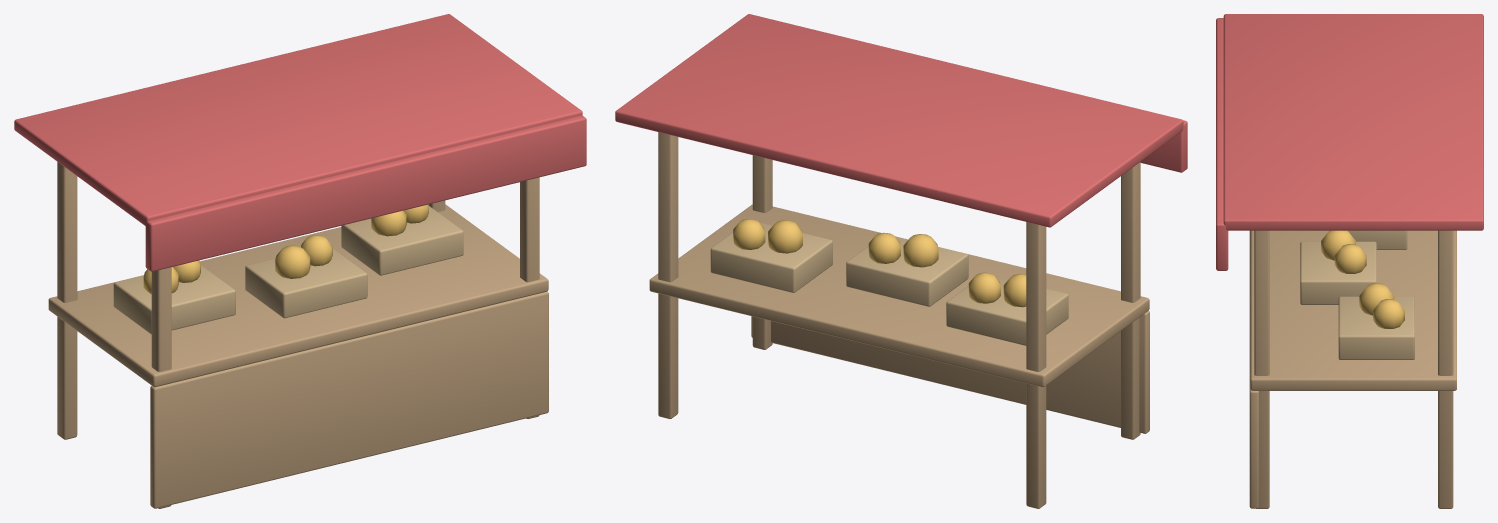
The model's file is th5_marktstand.glb.
3 renders of one model, left to right at view 1: azimuth 30°, elevation 25°; view 2: azimuth 150°, elevation 25°; view 3: azimuth 270°, elevation 25°, orthographic. The views are drawn at different scales.
Parts seen in each view (by area): view 1: Cube.006, Cube.005, Cube.004, Cube.007, Cube.002, Cube.009, Cube.010, Cube.008, Cube, Cube.001, Sphere.002, Sphere.003 (+1 smaller); view 2: Cube.006, Cube.004, Cube.005, Cube.002, Cube.003, Cube, Cube.009, Cube.010, Cube.008, Cube.001, Cube.007, Sphere.002 (+5 smaller); view 3: Cube.006, Cube.004, Cube.003, Cube.010, Cube.001, Cube.009, Cube.007, Cube.005, Cube.008, Sphere.003, Sphere.005, Sphere.004 (+1 smaller).
Boxes of the visible parts, box(x1,y1,x2,y2) form: Cube.006: box(14, 14, 582, 225); Cube.005: box(150, 291, 548, 508); Cube.004: box(48, 204, 548, 387); Cube.007: box(145, 115, 586, 271); Cube.002: box(57, 162, 77, 439); Cube.009: box(245, 249, 367, 318); Cube.010: box(341, 206, 463, 275); Cube.008: box(113, 265, 235, 334); Cube: box(151, 267, 171, 508); Cube.001: box(520, 177, 539, 418); Sphere.002: box(275, 245, 310, 278); Sphere.003: box(301, 235, 332, 266); Cube.006: box(615, 14, 1183, 227); Cube.004: box(649, 204, 1149, 387); Cube.005: box(751, 310, 1149, 433); Cube.002: box(1026, 222, 1046, 508); Cube.003: box(658, 132, 678, 418); Cube: box(1121, 162, 1140, 439); Cube.009: box(846, 236, 968, 306); Cube.010: box(710, 222, 832, 292); Cube.008: box(946, 276, 1068, 345); Cube.001: box(752, 155, 772, 349); Cube.007: box(1140, 120, 1187, 172); Sphere.002: box(903, 234, 938, 267); Cube.006: box(1223, 14, 1483, 230); Cube.004: box(1250, 230, 1456, 390); Cube.003: box(1438, 230, 1453, 508); Cube.010: box(1338, 296, 1414, 359); Cube.001: box(1254, 230, 1269, 508); Cube.009: box(1300, 241, 1376, 304); Cube.007: box(1216, 18, 1228, 270); Cube.005: box(1249, 230, 1258, 508); Cube.008: box(1348, 230, 1407, 249); Sphere.003: box(1334, 244, 1366, 273); Sphere.005: box(1373, 299, 1404, 328); Sphere.004: box(1359, 283, 1394, 315).
Bounding box in the file's own units: 3.2 × 2.18 × 1.75.
